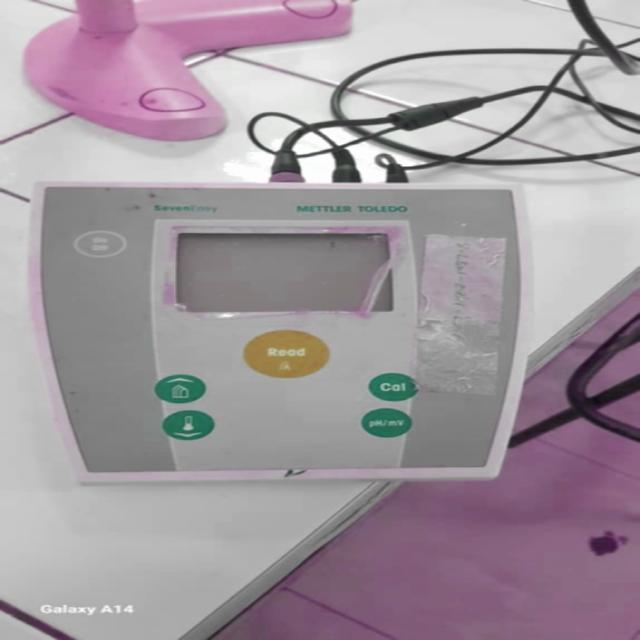PH meter: (30, 182, 519, 489)
